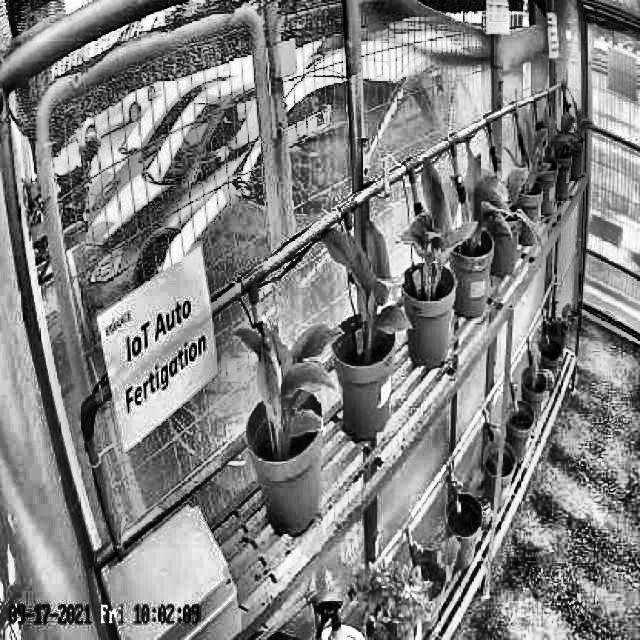plants: (236, 324, 344, 442), (323, 223, 412, 340), (396, 157, 469, 285), (452, 143, 510, 246), (522, 115, 544, 197), (572, 94, 594, 142)
